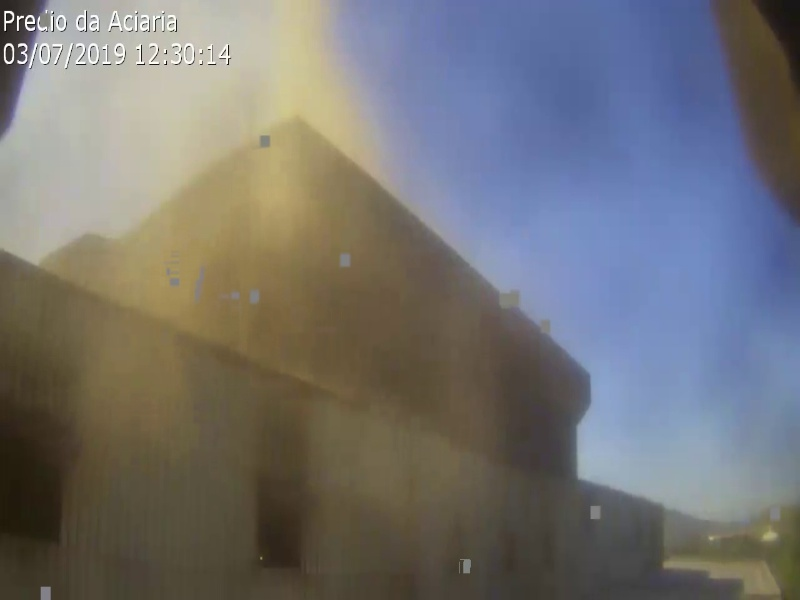Pessimo: (208, 53, 271, 161), (135, 74, 198, 182), (190, 209, 305, 268), (167, 243, 282, 302), (108, 239, 223, 298), (222, 161, 337, 220), (234, 113, 349, 172), (294, 221, 409, 280), (255, 1, 318, 108)
